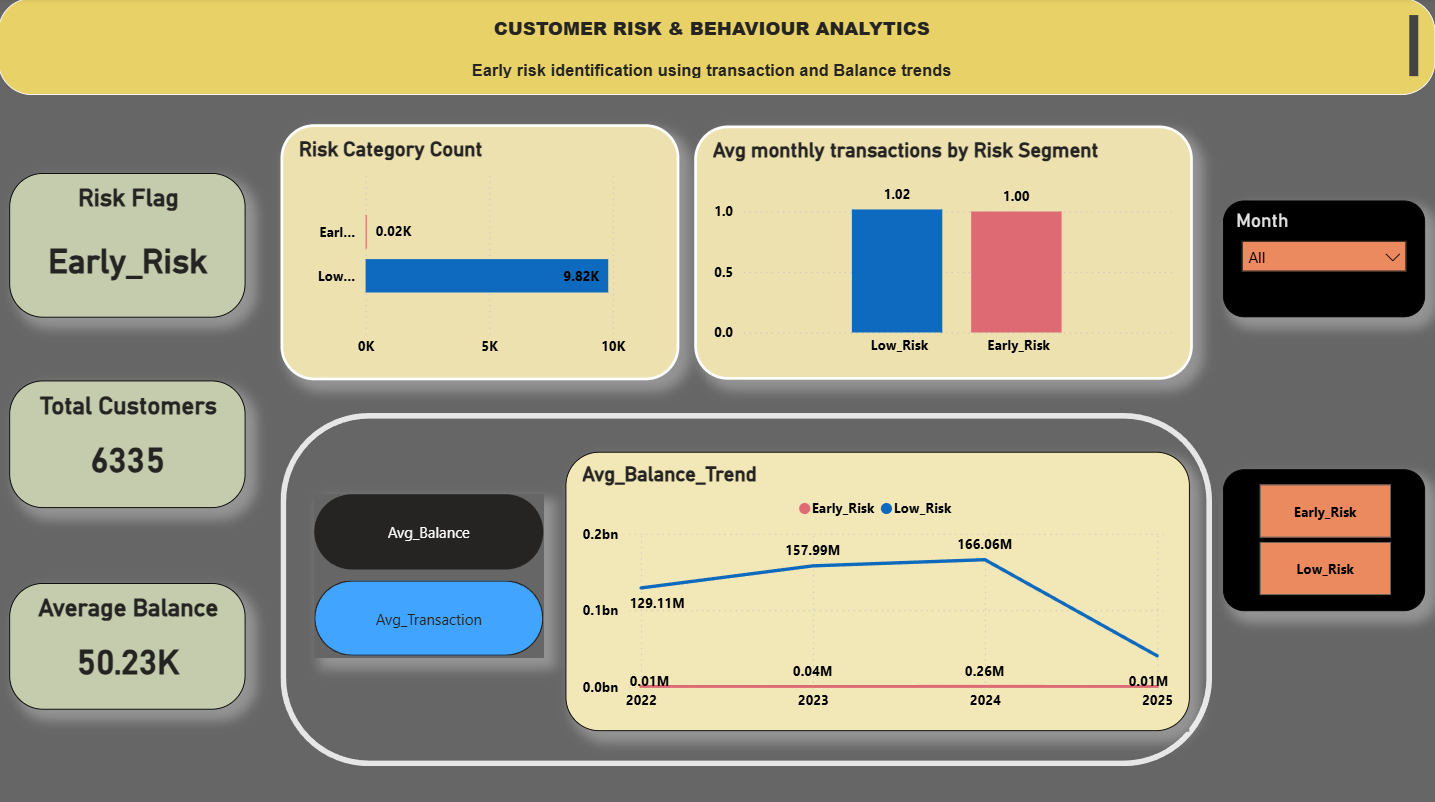

The dashboard page shown, as its layout file describes it:
{"tool":"powerbi","page":{"name":"Analysis","canvas":[1280,720],"ordinal":0},"visuals":[{"type":"lineChart","title":"Avg_Balance_Trend","fields":{"Y":["Sum(natwest_analytics customer_risk_flags.avg_balance)"],"Series":["natwest_analytics customer_risk_flags.risk_flag"],"Category":["natwest_analytics customer_risk_flags.month.Variation.Date Hierarchy.Year"]},"box":[505.4,404,555.8,249.1],"z":0,"group":"g1"},{"type":"shape","box":[251,369.3,829.6,314.5],"z":0},{"type":"textbox","box":[0,0,1279.7,86.6],"z":1000},{"type":"bookmarkNavigator","box":[281.3,441.9,204.9,145.7],"z":1000,"group":"g1"},{"type":"slicer","title":"Month","fields":{"Values":["natwest_analytics customer_risk_flags.month.Variation.Date Hierarchy.Month"]},"box":[1090.7,180.3,180.3,103.9],"z":3000},{"type":"slicer","fields":{"Values":["natwest_analytics customer_risk_flags.risk_flag"]},"box":[1090.8,419.6,180.4,126.4],"z":4000},{"type":"clusteredBarChart","title":"Risk Category Count","fields":{"Y":["CountNonNull(natwest_analytics customer_risk_flags.customer_id)"],"Category":["natwest_analytics customer_risk_flags.risk_flag"]},"box":[251,112.5,354.9,228],"z":5000},{"type":"clusteredColumnChart","title":"Avg monthly transactions by Risk Segment","fields":{"Category":["natwest_analytics customer_risk_flags.risk_flag"],"Y":["Avg(natwest_analytics customer_risk_flags.transaction_count)"]},"box":[620.4,114,444.4,226.5],"z":6000},{"type":"group","id":"g1","title":"Group 1","box":[281.3,404,780,249.1],"z":7000},{"type":"card","title":"Risk Flag","fields":{"Values":["Min(natwest_analytics customer_risk_flags.risk_flag)"]},"box":[10.1,155.8,210.6,128.4],"z":8000},{"type":"card","title":"Total Customers","fields":{"Values":["natwest_analytics customer_risk_flags.Total_customers"]},"box":[10.1,340.5,210.6,114],"z":9000},{"type":"card","title":"Average Balance","fields":{"Values":["Avg(natwest_analytics customer_risk_flags.avg_balance)"]},"box":[10.1,520.8,210.6,112.5],"z":10000}]}

Visuals, with their boxes in screenshot pixels (x1, y1, x2, y2), scaled from the page's 1280x720 canvas onto the 1435x802 screenshot:
"Avg_Balance_Trend" lineChart: bbox=(567, 450, 1190, 727)
shape: bbox=(281, 411, 1211, 762)
textbox: bbox=(0, 0, 1434, 96)
bookmarkNavigator: bbox=(315, 492, 545, 655)
"Month" slicer: bbox=(1223, 201, 1425, 317)
slicer - natwest_analytics customer_risk_flags.risk_flag: bbox=(1223, 467, 1425, 608)
"Risk Category Count" clusteredBarChart: bbox=(281, 125, 679, 379)
"Avg monthly transactions by Risk Segment" clusteredColumnChart: bbox=(696, 127, 1194, 379)
"Group 1" group: bbox=(315, 450, 1190, 727)
"Risk Flag" card: bbox=(11, 174, 247, 317)
"Total Customers" card: bbox=(11, 379, 247, 506)
"Average Balance" card: bbox=(11, 580, 247, 705)
